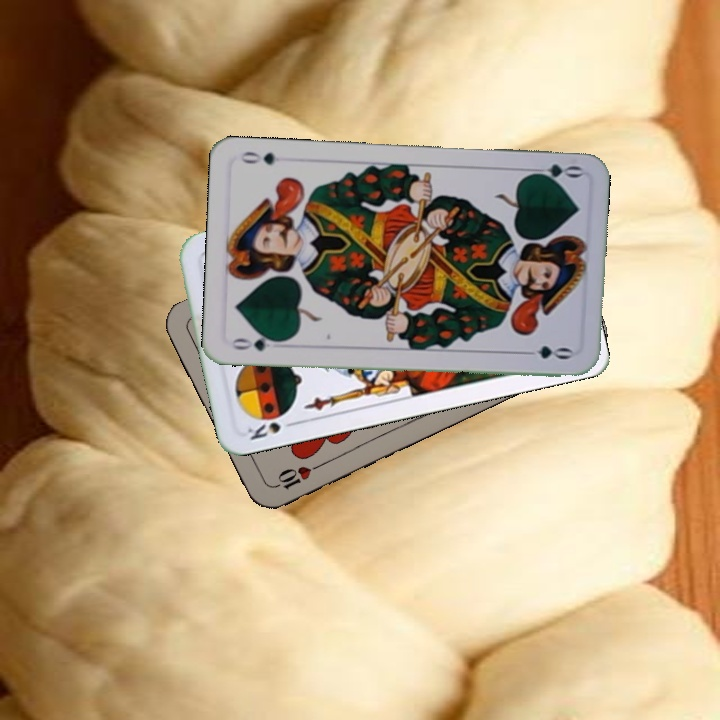GO: (524, 160, 584, 184), (227, 331, 286, 354)
H10: (268, 460, 324, 493)
SK: (243, 417, 300, 443)
